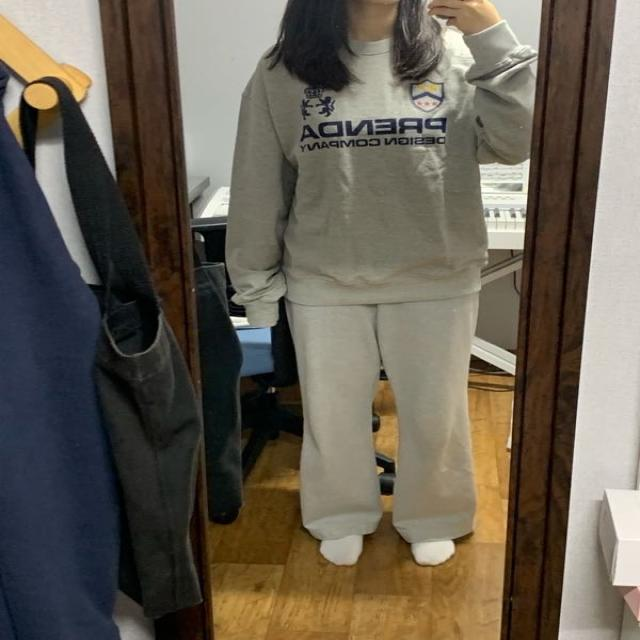mtm: (234, 4, 542, 324)
trainingpants: (291, 287, 486, 546)
